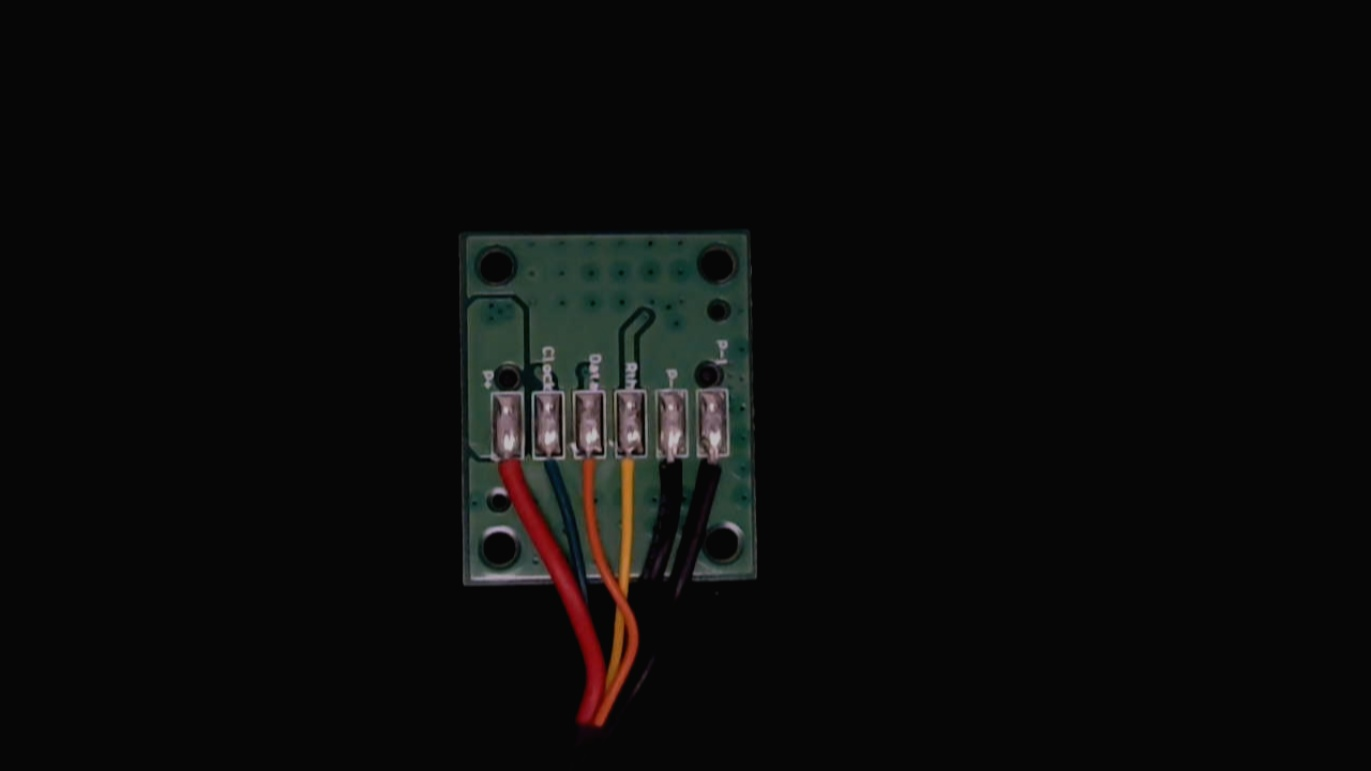Black: (653, 437, 690, 515)
Black1: (696, 438, 732, 510)
Green: (531, 436, 561, 499)
Orange: (572, 441, 605, 516)
Red: (489, 439, 526, 514)
Yellow: (612, 439, 648, 518)
